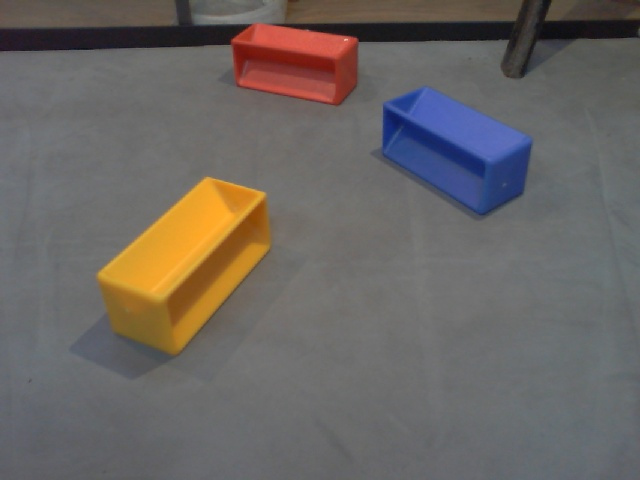BlueSample: (373, 79, 534, 221)
RedSample: (227, 21, 363, 112)
YellowSample: (93, 170, 274, 358)
